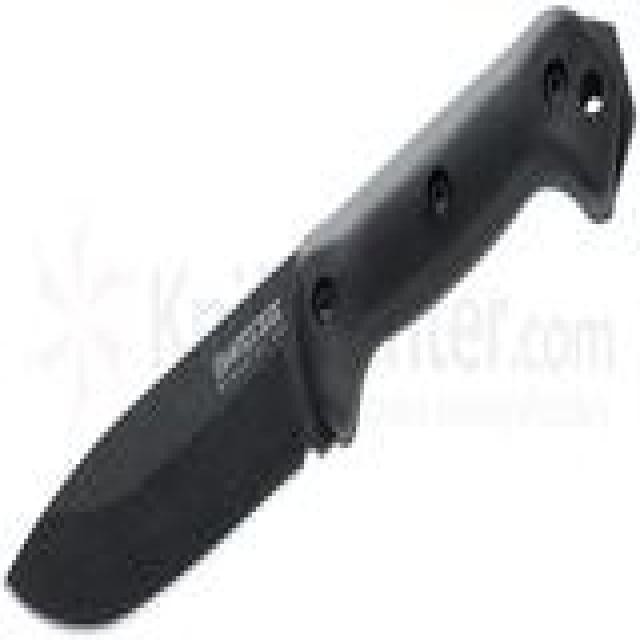Knife: (1, 5, 630, 632)
